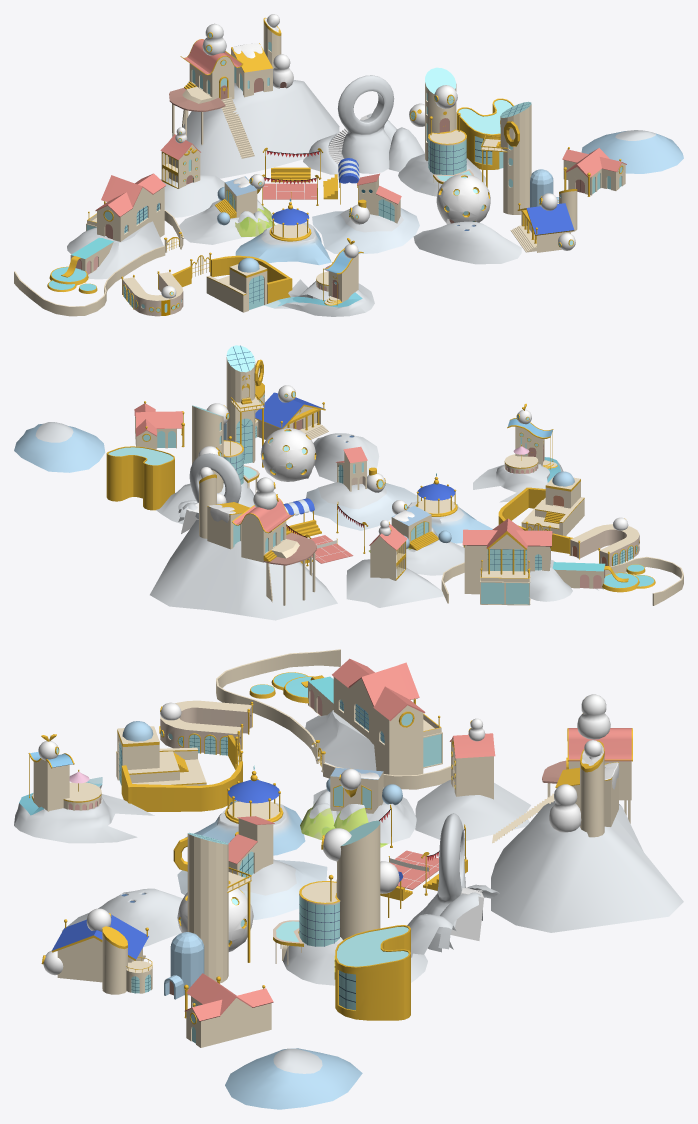
Rendered from Neighborhood_BeverlyChills_03.fbx.
The picture shows the model from 3 angles, top to bottom: view 1: azimuth 30°, elevation 25°; view 2: azimuth 150°, elevation 25°; view 3: azimuth 270°, elevation 25°; orthographic projection. The views are drawn at different scales.
Parts seen in each view (by area): view 1: BEVERLYCHILLS_OBJECT_83, BEVERLYCHILLS_OBJECT_40, BEVERLYCHILLS_OBJECT_79, BEVERLYCHILLS_OBJECT_46, BEVERLYCHILLS_OBJECT_77, BEVERLYCHILLS_OBJECT_45, BEVERLYCHILLS_OBJECT_84, BEVERLYCHILLS_OBJECT_60, BEVERLYCHILLS_OBJECT_62, BEVERLYCHILLS_OBJECT_59, BEVERLYCHILLS_OBJECT_41, BEVERLYCHILLS_OBJECT_3 (+11 smaller); view 2: BEVERLYCHILLS_OBJECT_40, BEVERLYCHILLS_OBJECT_79, BEVERLYCHILLS_OBJECT_83, BEVERLYCHILLS_OBJECT_45, BEVERLYCHILLS_OBJECT_60, BEVERLYCHILLS_OBJECT_76, BEVERLYCHILLS_OBJECT_77, BEVERLYCHILLS_OBJECT_59, BEVERLYCHILLS_OBJECT_84, BEVERLYCHILLS_OBJECT_62, BEVERLYCHILLS_OBJECT_81, BEVERLYCHILLS_OBJECT_41 (+11 smaller); view 3: BEVERLYCHILLS_OBJECT_40, BEVERLYCHILLS_OBJECT_79, BEVERLYCHILLS_OBJECT_83, BEVERLYCHILLS_OBJECT_77, BEVERLYCHILLS_OBJECT_84, BEVERLYCHILLS_OBJECT_59, BEVERLYCHILLS_OBJECT_60, BEVERLYCHILLS_OBJECT_76, BEVERLYCHILLS_OBJECT_41, BEVERLYCHILLS_OBJECT_62, BEVERLYCHILLS_OBJECT_46, BEVERLYCHILLS_OBJECT_3 (+11 smaller).
Part boxes in pixels (box(x1,y1,x2,y2)): BEVERLYCHILLS_OBJECT_83: box(312, 130, 683, 264); BEVERLYCHILLS_OBJECT_40: box(182, 80, 339, 178); BEVERLYCHILLS_OBJECT_79: box(47, 173, 165, 293); BEVERLYCHILLS_OBJECT_46: box(303, 75, 424, 174); BEVERLYCHILLS_OBJECT_77: box(398, 67, 485, 196); BEVERLYCHILLS_OBJECT_45: box(169, 23, 254, 158); BEVERLYCHILLS_OBJECT_84: box(481, 101, 558, 214); BEVERLYCHILLS_OBJECT_60: box(172, 252, 292, 312); BEVERLYCHILLS_OBJECT_62: box(179, 174, 274, 244); BEVERLYCHILLS_OBJECT_59: box(264, 238, 374, 316); BEVERLYCHILLS_OBJECT_41: box(510, 189, 577, 252); BEVERLYCHILLS_OBJECT_3: box(231, 14, 293, 97); BEVERLYCHILLS_OBJECT_40: box(150, 519, 337, 620); BEVERLYCHILLS_OBJECT_79: box(462, 518, 655, 605); BEVERLYCHILLS_OBJECT_83: box(14, 422, 420, 530); BEVERLYCHILLS_OBJECT_45: box(232, 477, 316, 605); BEVERLYCHILLS_OBJECT_60: box(498, 471, 584, 553); BEVERLYCHILLS_OBJECT_76: box(106, 446, 174, 510); BEVERLYCHILLS_OBJECT_77: box(156, 403, 259, 524); BEVERLYCHILLS_OBJECT_59: box(473, 403, 563, 502); BEVERLYCHILLS_OBJECT_84: box(223, 345, 264, 467); BEVERLYCHILLS_OBJECT_62: box(369, 500, 464, 575); BEVERLYCHILLS_OBJECT_81: box(346, 559, 443, 607); BEVERLYCHILLS_OBJECT_41: box(255, 383, 328, 439); BEVERLYCHILLS_OBJECT_40: box(491, 801, 683, 932); BEVERLYCHILLS_OBJECT_79: box(249, 658, 442, 775); BEVERLYCHILLS_OBJECT_83: box(62, 859, 362, 1109); BEVERLYCHILLS_OBJECT_77: box(273, 820, 427, 985); BEVERLYCHILLS_OBJECT_84: box(164, 833, 251, 999); BEVERLYCHILLS_OBJECT_59: box(14, 734, 154, 843); BEVERLYCHILLS_OBJECT_60: box(116, 721, 243, 811); BEVERLYCHILLS_OBJECT_76: box(334, 925, 410, 1020); BEVERLYCHILLS_OBJECT_41: box(41, 908, 152, 994); BEVERLYCHILLS_OBJECT_62: box(300, 767, 416, 847); BEVERLYCHILLS_OBJECT_46: box(407, 813, 499, 957); BEVERLYCHILLS_OBJECT_3: box(549, 740, 619, 837).
Size of the model in its own units: 9844 by 1865 by 6360.
